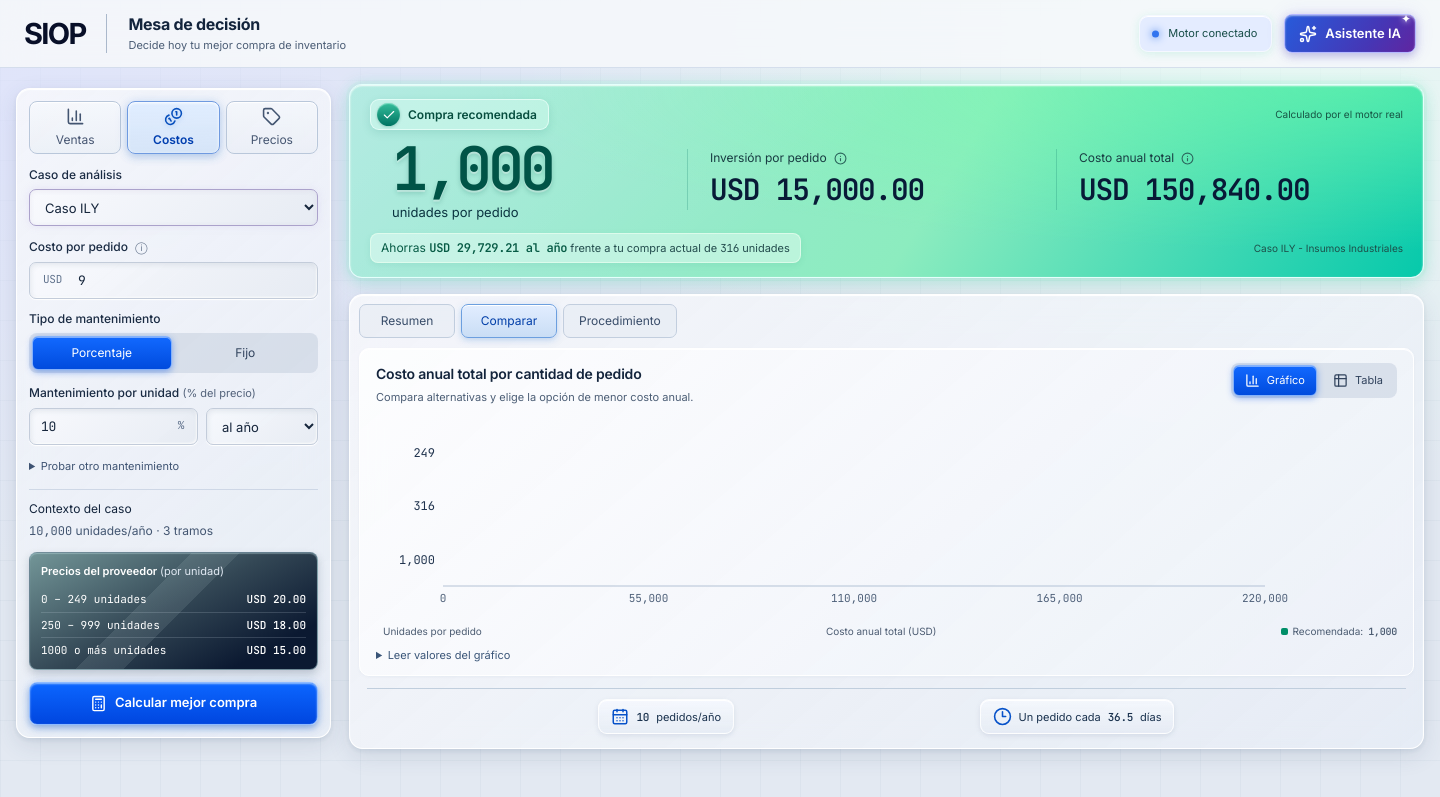
Asistente integrado y protección del ingreso manual › descartar conserva los datos, y cerrar/reabrir conserva la conversación
Check: the heading "Compra recomendada" is shown, box [370, 99, 549, 130]
Click the button with aria-label "Asistente IA (Texto, Foto y Voz)": (1350, 34) [1284, 14, 1416, 53]
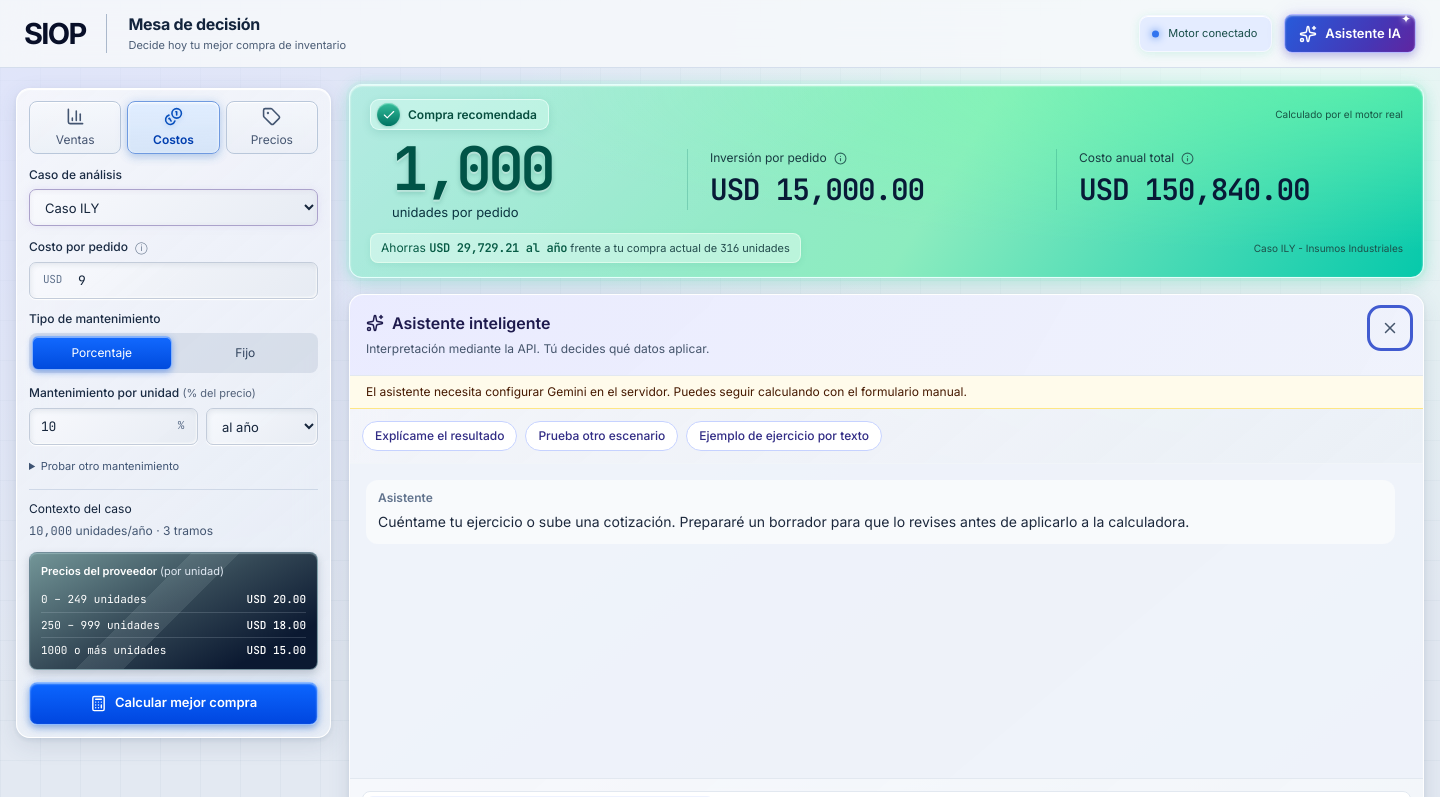
Click the button "Prueba otro escenario": (602, 436) [525, 421, 678, 451]
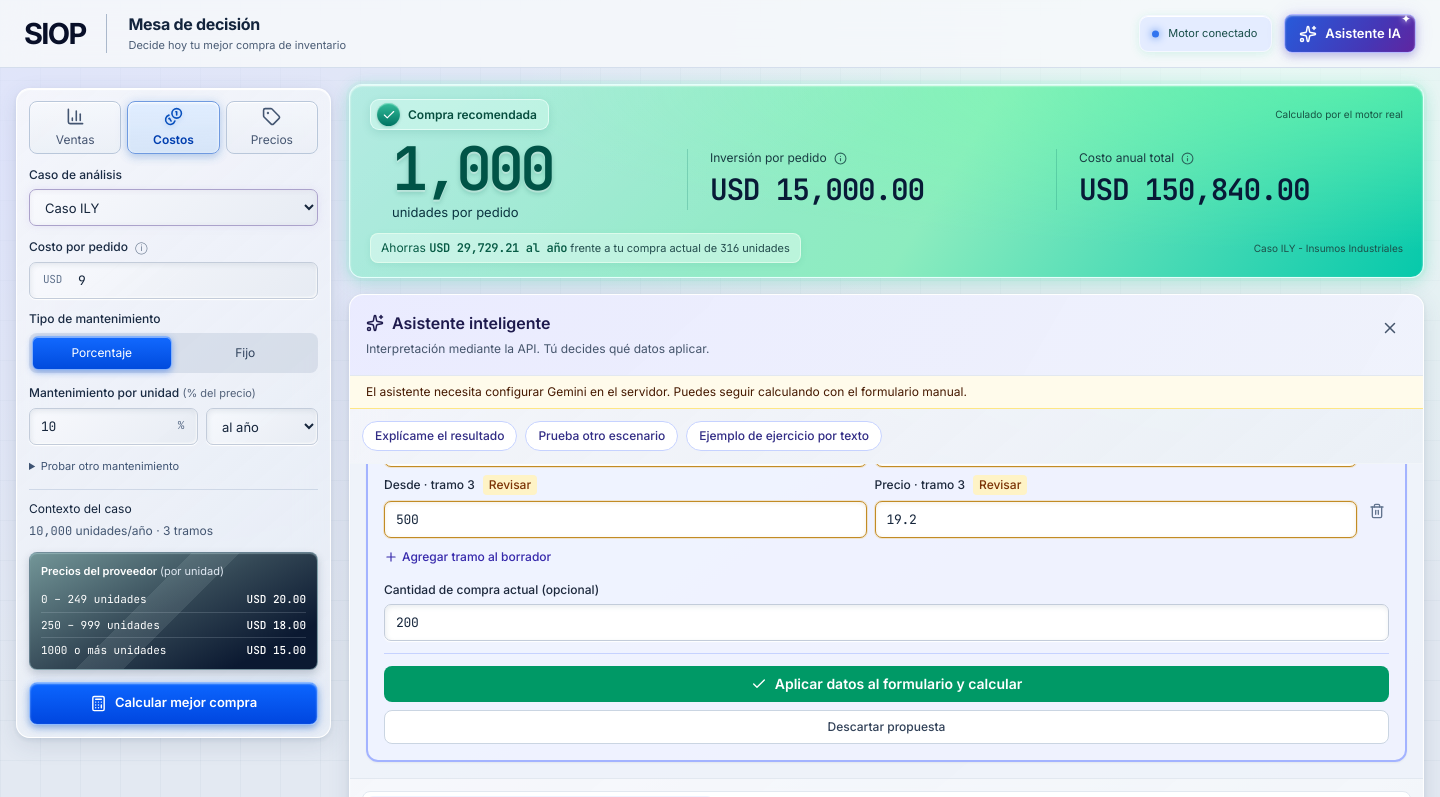
Click the button "Descartar propuesta": (886, 727) [384, 710, 1389, 744]
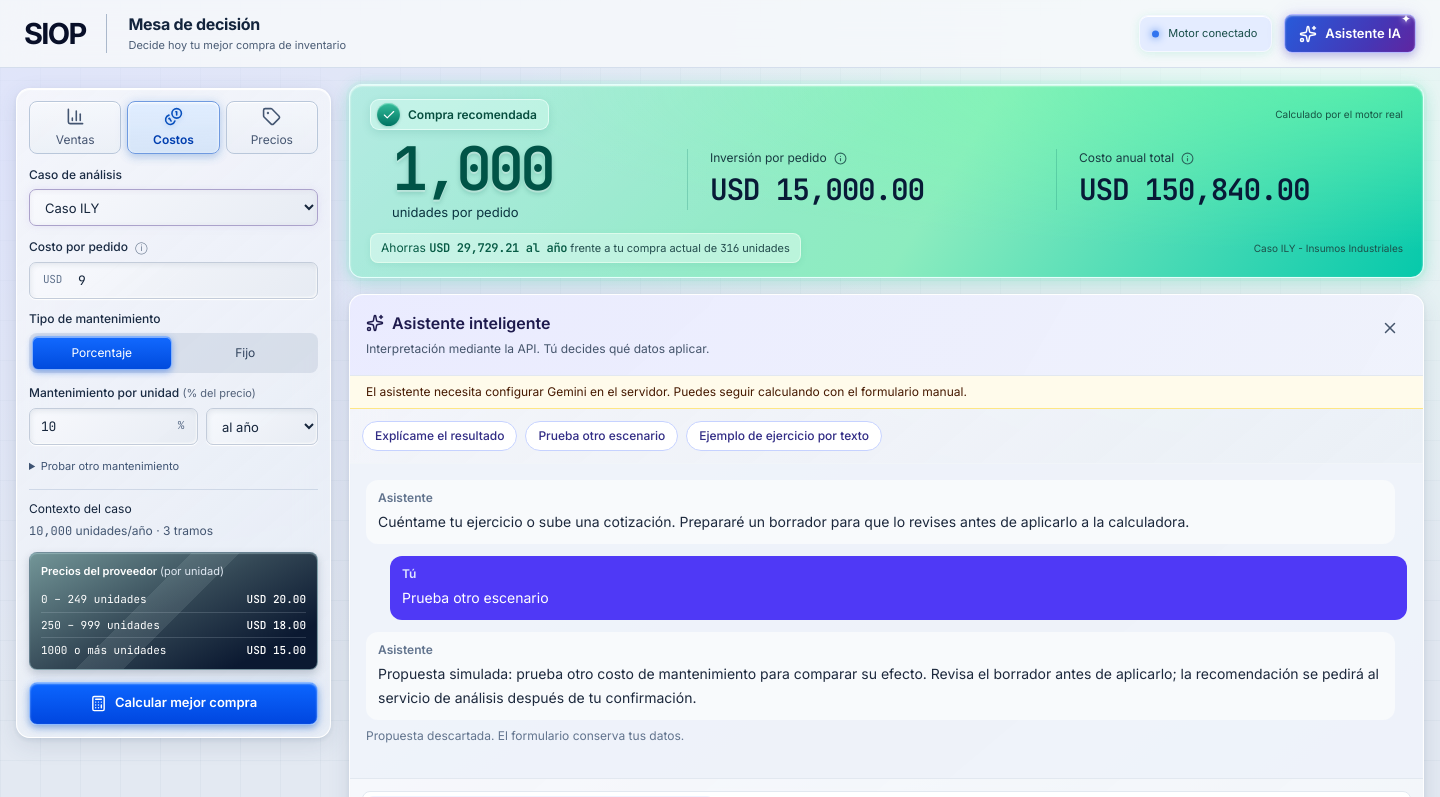
Click the button named "Cerrar asistente": (1390, 328) [1373, 311, 1407, 345]
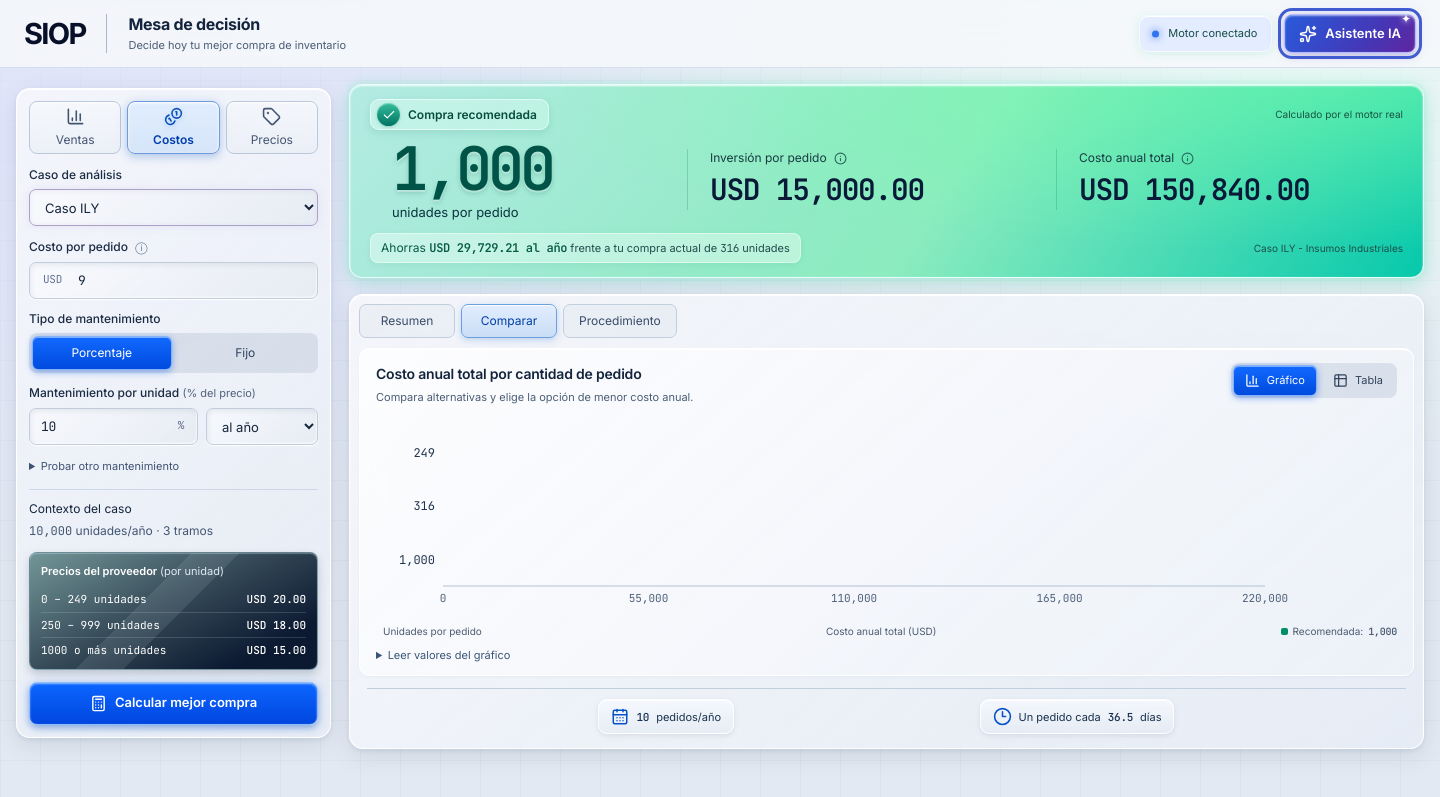
Click the button with aria-label "Asistente IA (Texto, Foto y Voz)": (1350, 34) [1284, 14, 1416, 53]
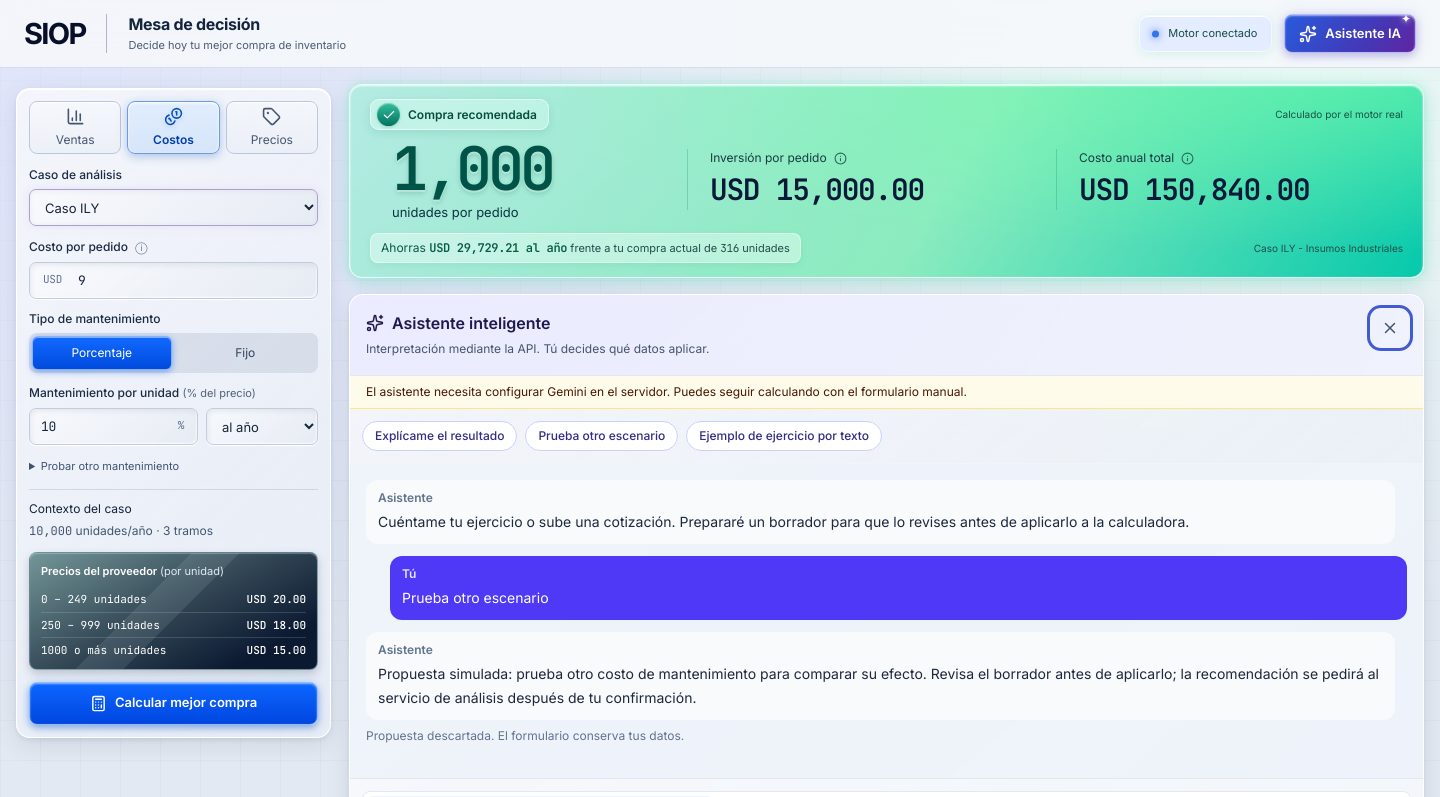
Check: the text "Propuesta descartada. El formulario conserva tus datos." is shown, box [366, 728, 684, 743]
